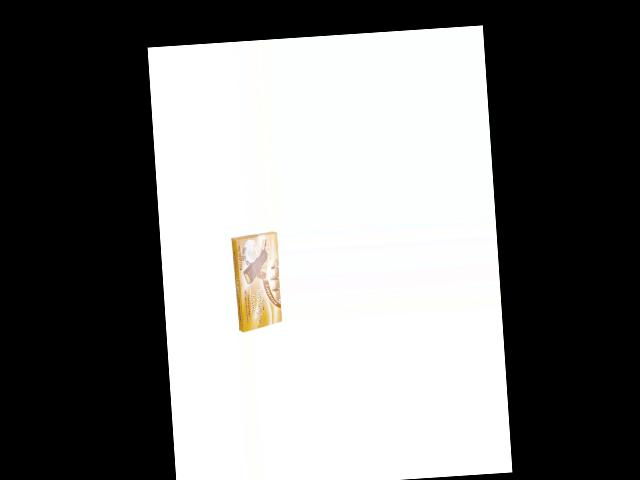chocolate: (230, 230, 284, 334)
